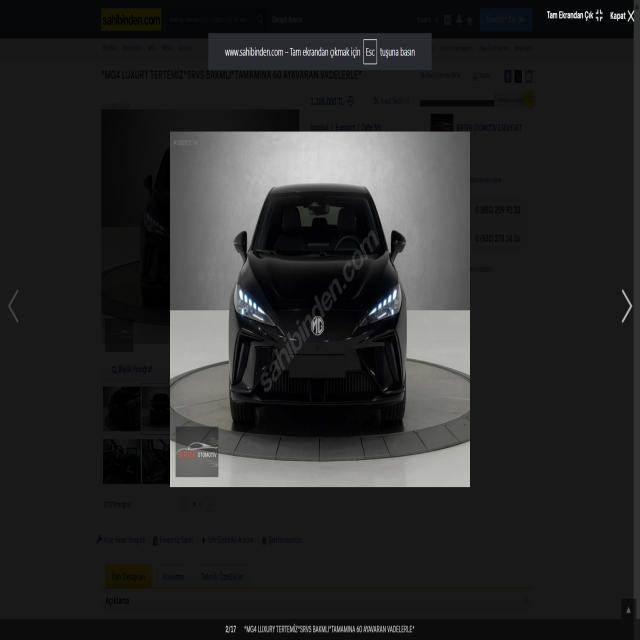mg: (304, 304, 334, 346)
